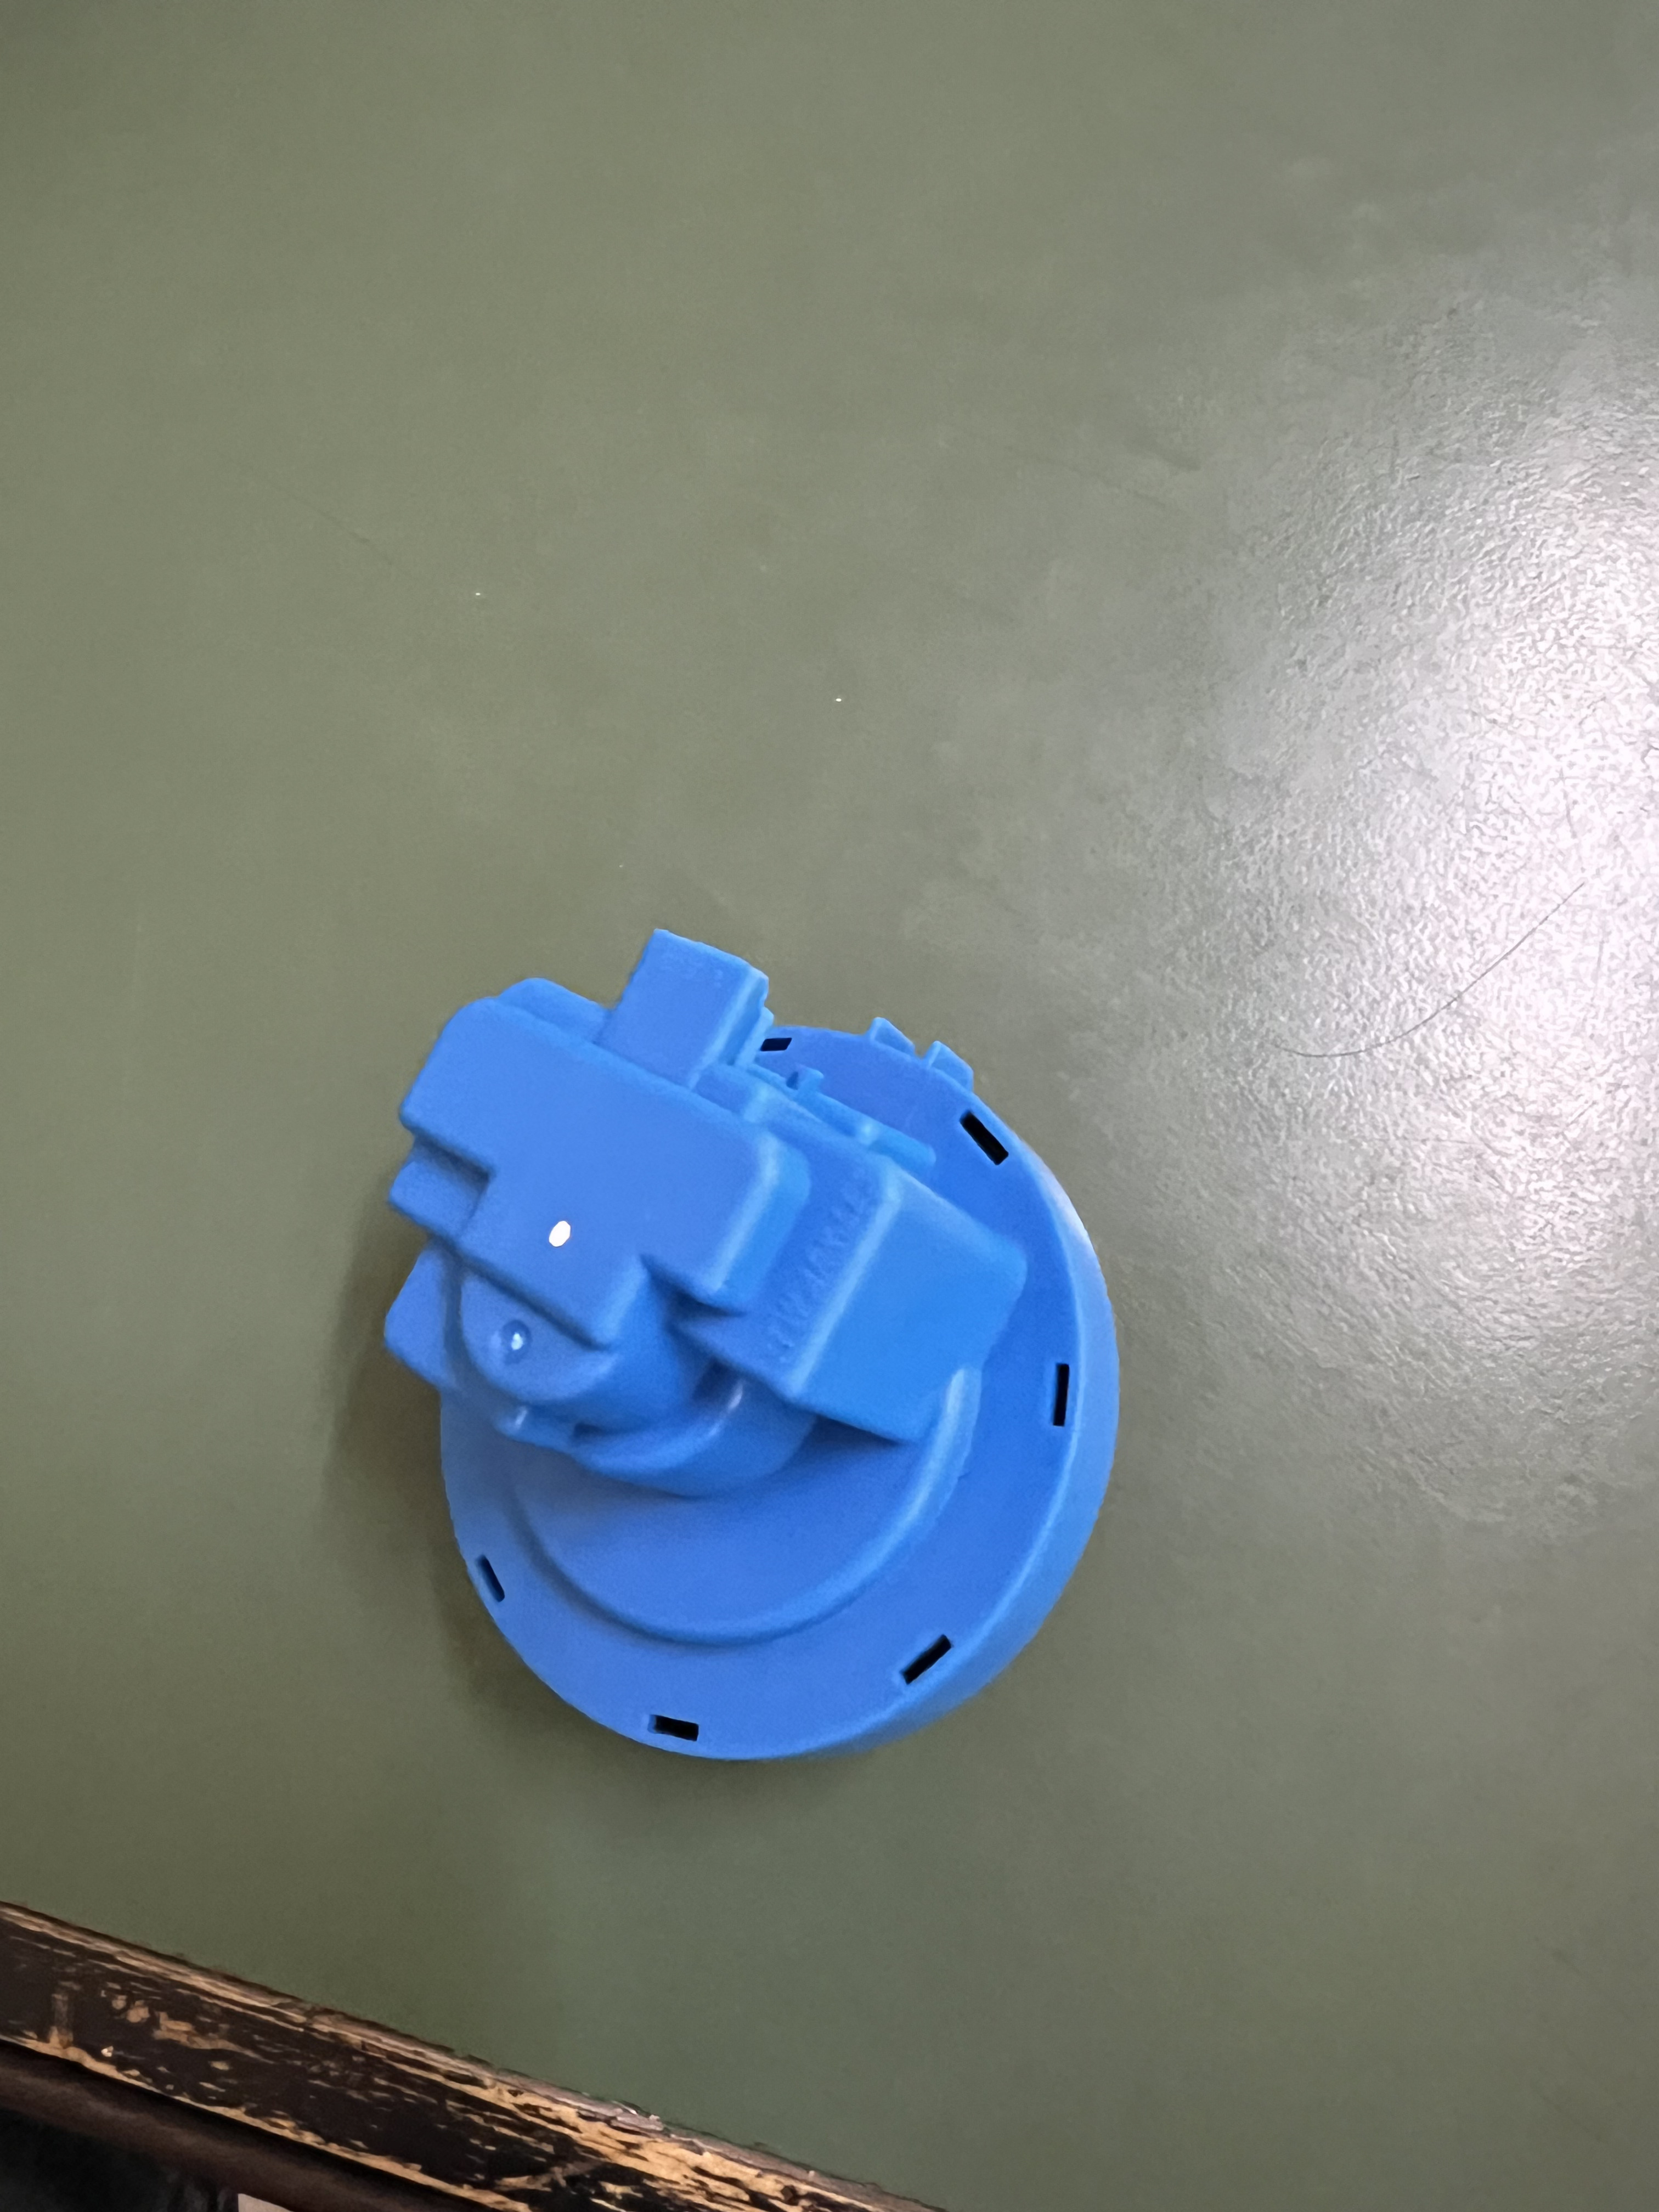voltas_beko_pressure_switch: (359, 935, 1121, 1775)
